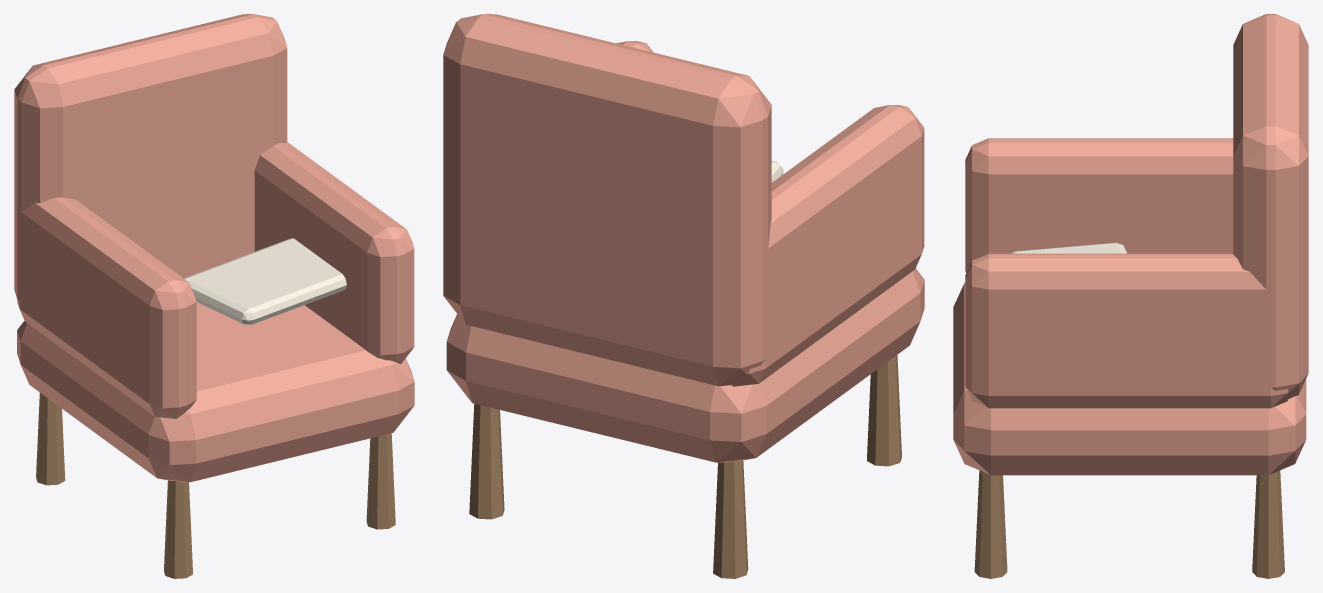
File: cozy-home-interiors-reading-nook-chair-1a8e7c22.glb
The picture shows the model from 3 angles, left to right: view 1: azimuth 30°, elevation 25°; view 2: azimuth 150°, elevation 25°; view 3: azimuth 270°, elevation 25°; orthographic projection. The views are drawn at different scales.
Parts seen in each view (by area): view 1: reading-nook-chair; view 2: reading-nook-chair; view 3: reading-nook-chair.
Part boxes in pixels (x1,y1,x2,y2): reading-nook-chair: [14, 14, 414, 578]; reading-nook-chair: [443, 14, 924, 578]; reading-nook-chair: [953, 14, 1308, 578].
Size of the model in its own units: 0.7 by 1.05 by 0.755.
